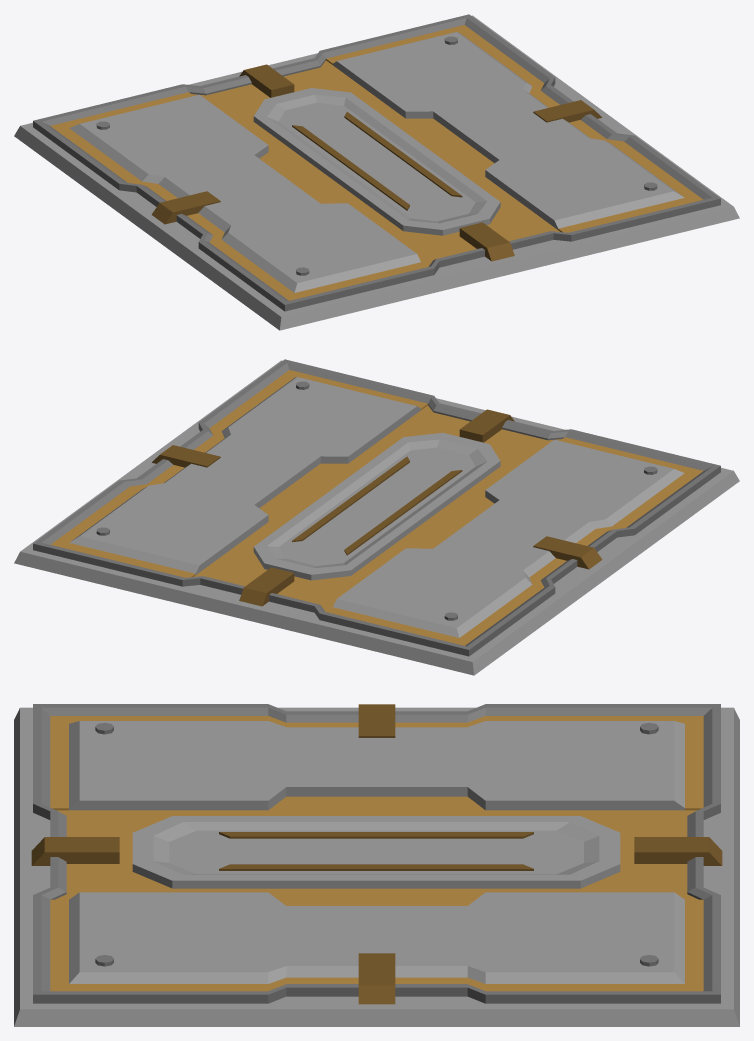
File: FloorTile_Basic2.glb
3 views of the same model, one above another, from view 1: azimuth 30°, elevation 25°; view 2: azimuth 150°, elevation 25°; view 3: azimuth 270°, elevation 25° (orthographic). The views are drawn at different scales.
Visible parts, largest first — view 1: FloorTile_Basic2; view 2: FloorTile_Basic2; view 3: FloorTile_Basic2.
Boxes of the visible parts, x1,y1,x2,y2 form: FloorTile_Basic2: (14,14,739,330); FloorTile_Basic2: (14,359,739,675); FloorTile_Basic2: (14,704,739,1026).
Size of the model in its own units: 0.68 by 0.0317 by 0.68.
